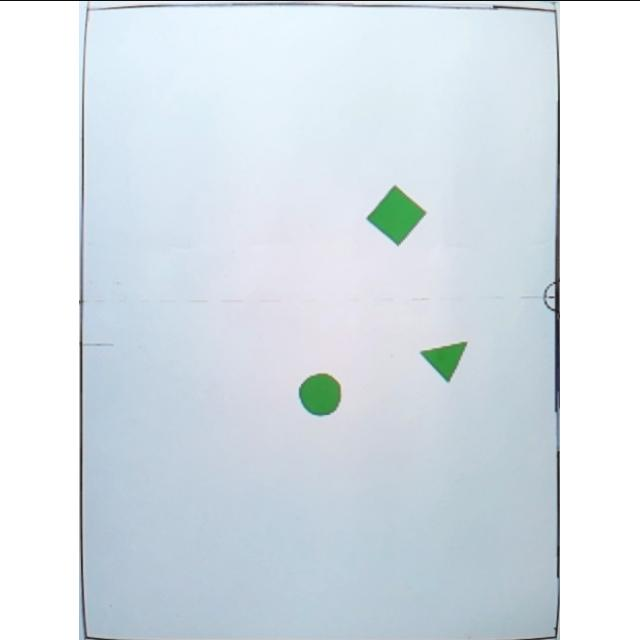greenCircle: (300, 372, 344, 416)
greenSquare: (364, 184, 428, 246)
greenTriangle: (420, 336, 470, 380)
